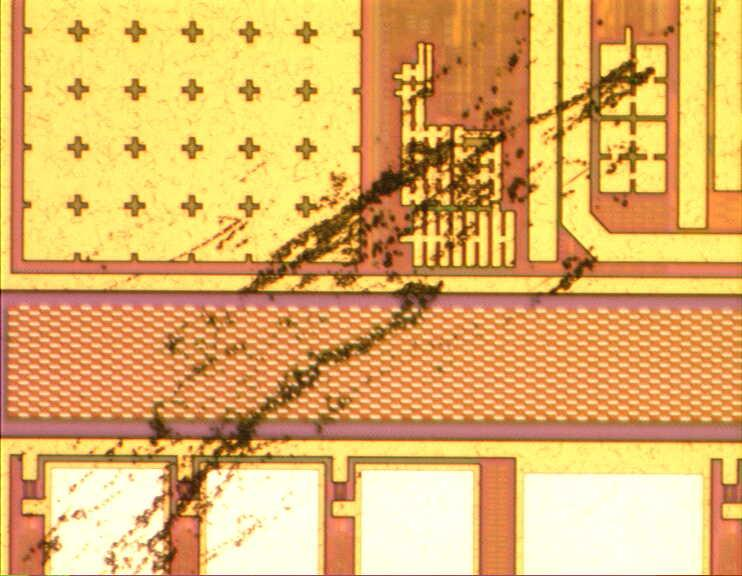SCRATCH: (27, 3, 661, 576)
